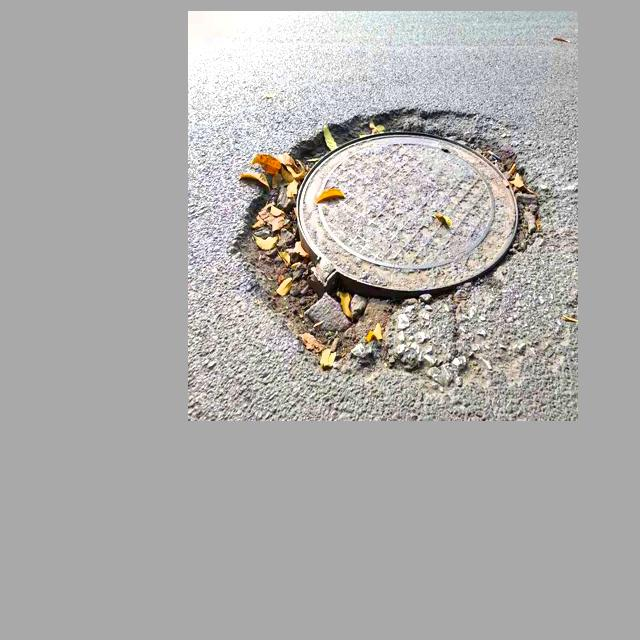circle: (241, 106, 570, 375)
